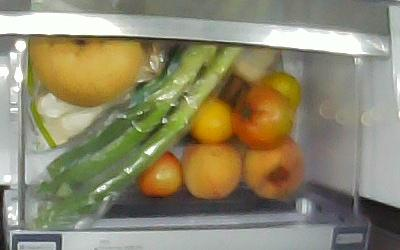peach: (239, 136, 303, 199), (180, 143, 243, 200)
pear: (29, 31, 141, 107)
tangerine: (186, 96, 236, 142), (262, 73, 302, 109)
tomato: (229, 86, 291, 147), (135, 150, 183, 196)
